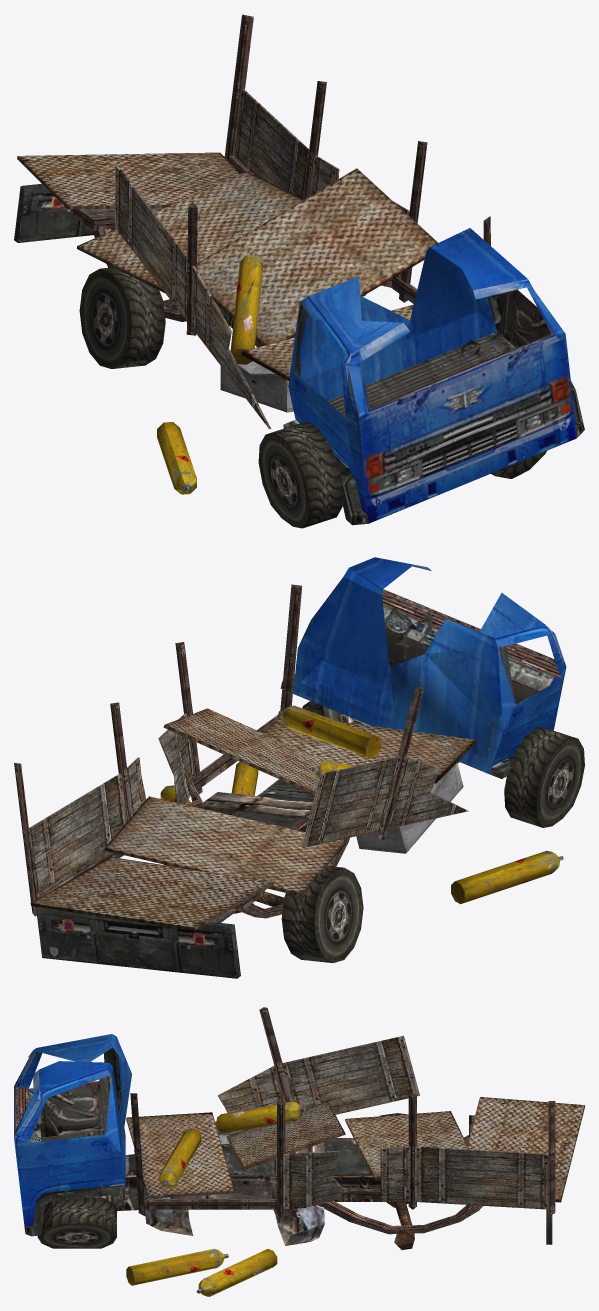
Rendered from CTrkX.glb.
3 renders of one model, top to bottom at view 1: azimuth 30°, elevation 25°; view 2: azimuth 150°, elevation 25°; view 3: azimuth 270°, elevation 25°, orthographic. The views are drawn at different scales.
Visible parts, largest first — view 1: _CTrkX; view 2: _CTrkX; view 3: _CTrkX.
Part boxes in pixels (x1,y1,x2,y2): _CTrkX: [14, 14, 584, 528]; _CTrkX: [14, 557, 584, 978]; _CTrkX: [14, 1007, 584, 1296].
Bounding box in the file's own units: 5.15 × 2.93 × 8.35.
Materials: 3 (3 with a texture image).
